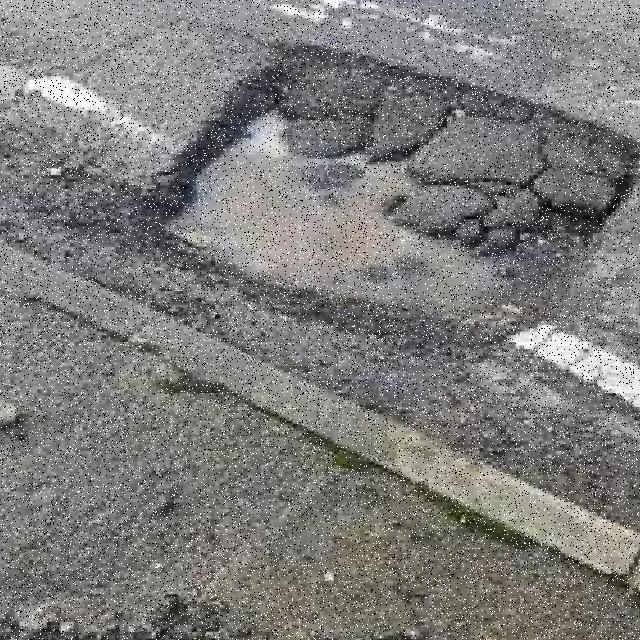pothole: (165, 49, 634, 325)
